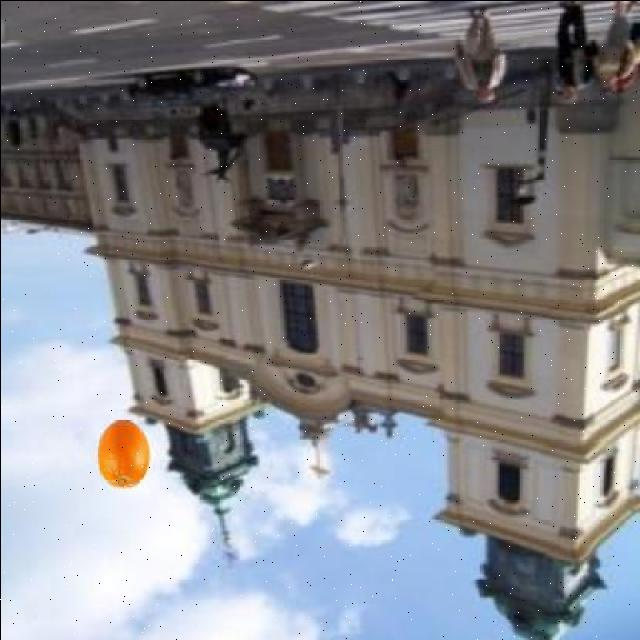Orange: (97, 420, 151, 491)
